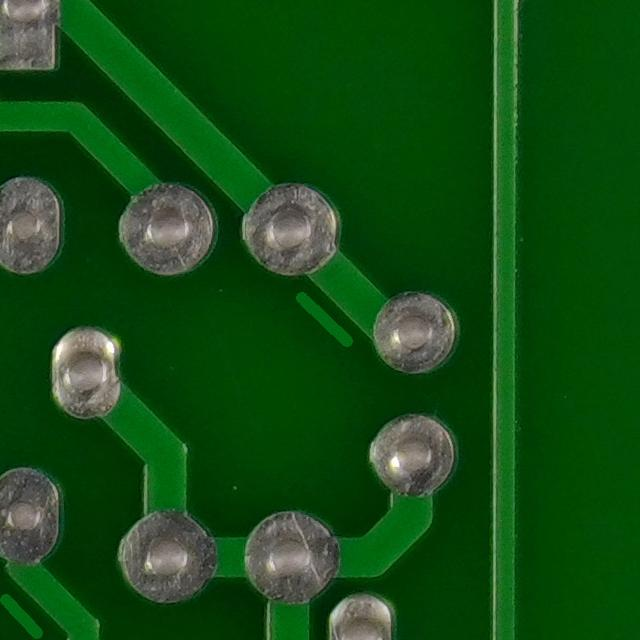spurious_copper: (273, 276, 367, 365)
